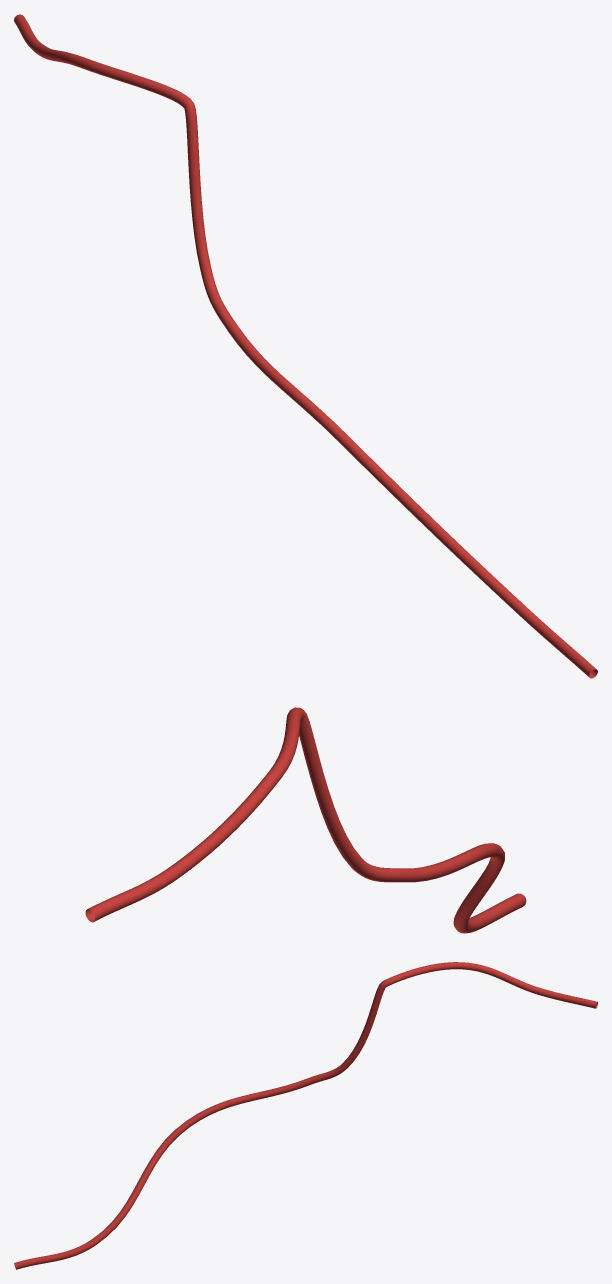
The picture shows the model from 3 angles, top to bottom: view 1: azimuth 30°, elevation 25°; view 2: azimuth 150°, elevation 25°; view 3: azimuth 270°, elevation 25°; orthographic projection. The views are drawn at different scales.
Parts seen in each view (by area): view 1: 直肠上动脉; view 2: 直肠上动脉; view 3: 直肠上动脉.
Boxes of the visible parts, left/top/right/bottom form: 直肠上动脉: left=14, top=14, right=597, bottom=678; 直肠上动脉: left=85, top=707, right=526, bottom=933; 直肠上动脉: left=14, top=962, right=597, bottom=1269.
Size of the model in its own units: 0.046 by 0.105 by 0.2146.
